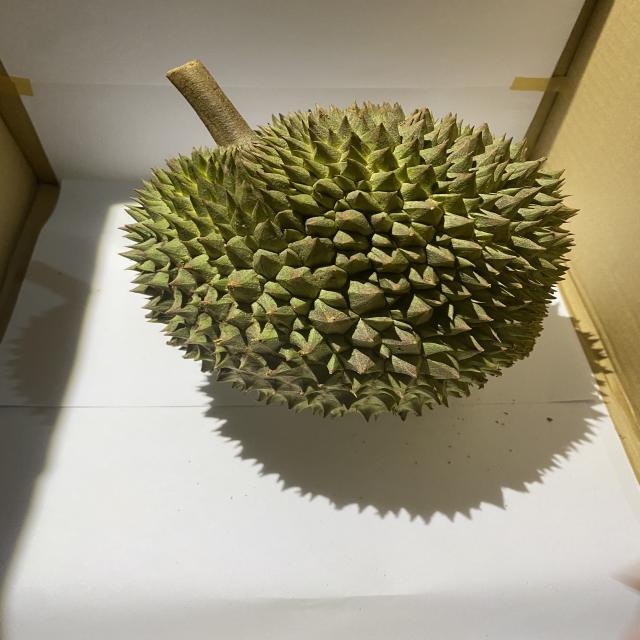immature: (119, 96, 574, 424)
